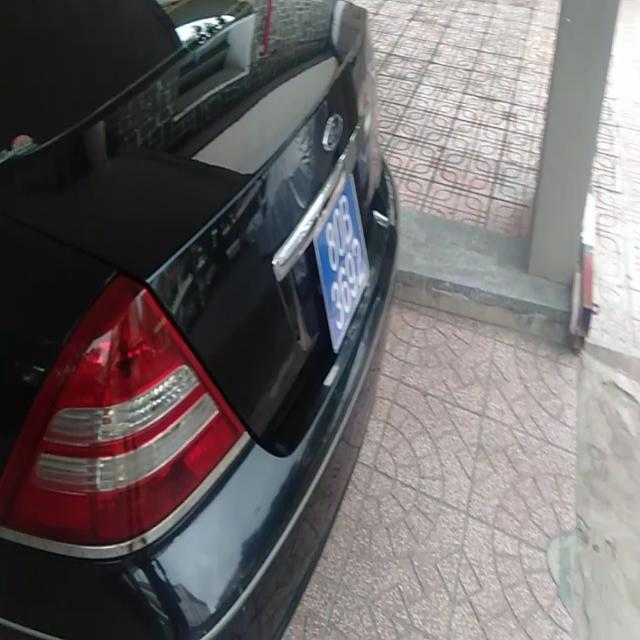bien_xanh: (304, 176, 370, 342)
